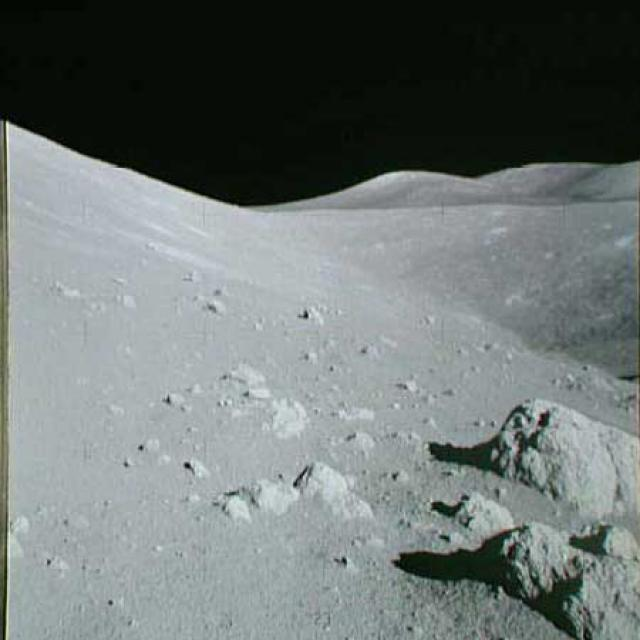rock: (481, 390, 638, 522), (475, 518, 639, 638), (295, 453, 376, 525), (438, 484, 514, 535), (255, 397, 316, 451), (581, 520, 639, 565), (256, 468, 300, 526), (219, 358, 267, 399), (324, 398, 373, 432), (220, 484, 254, 530), (333, 432, 378, 463), (293, 300, 329, 332), (193, 288, 225, 319), (183, 456, 210, 480)
